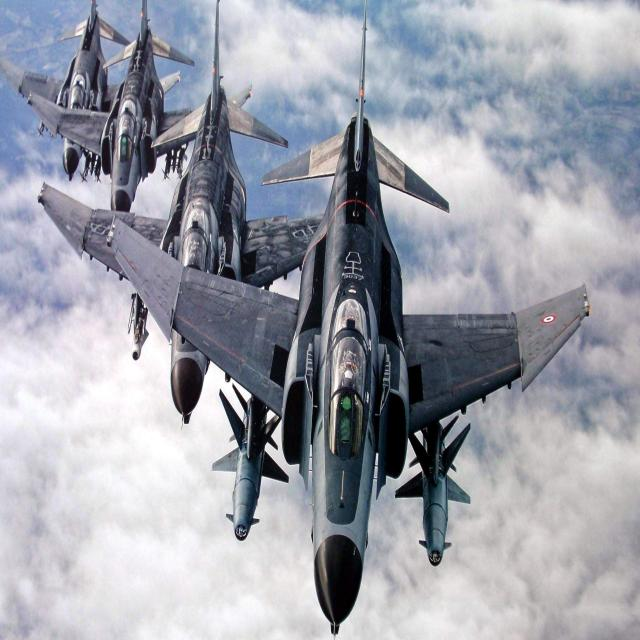MIL_Plane: (107, 0, 590, 640), (37, 0, 325, 430), (27, 1, 252, 212), (0, 0, 180, 182)
